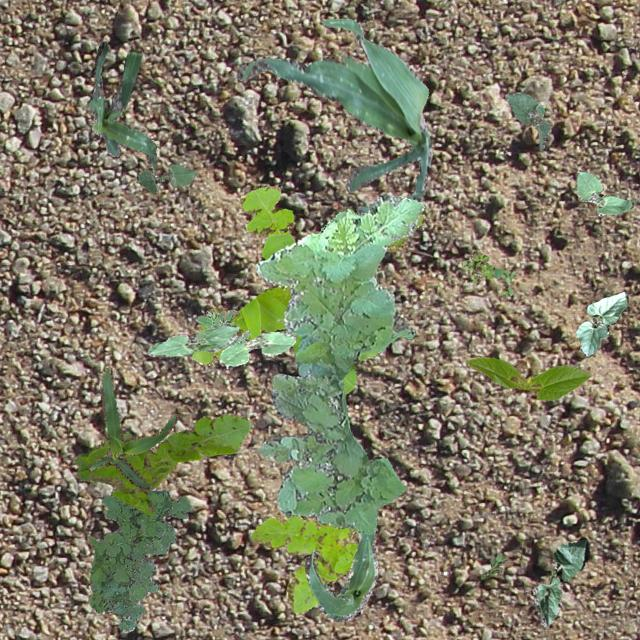crop: (236, 18, 432, 214), (86, 366, 178, 488), (86, 42, 156, 168), (304, 524, 376, 620), (466, 356, 590, 400), (532, 536, 588, 626), (574, 290, 626, 356), (146, 322, 238, 357), (218, 330, 294, 368), (504, 90, 550, 150), (574, 168, 632, 214), (136, 164, 196, 194)
weed: (254, 194, 423, 534), (190, 185, 424, 392), (73, 412, 250, 514), (86, 488, 190, 632), (250, 514, 358, 614), (460, 250, 514, 296), (196, 308, 250, 348), (479, 552, 506, 578)
